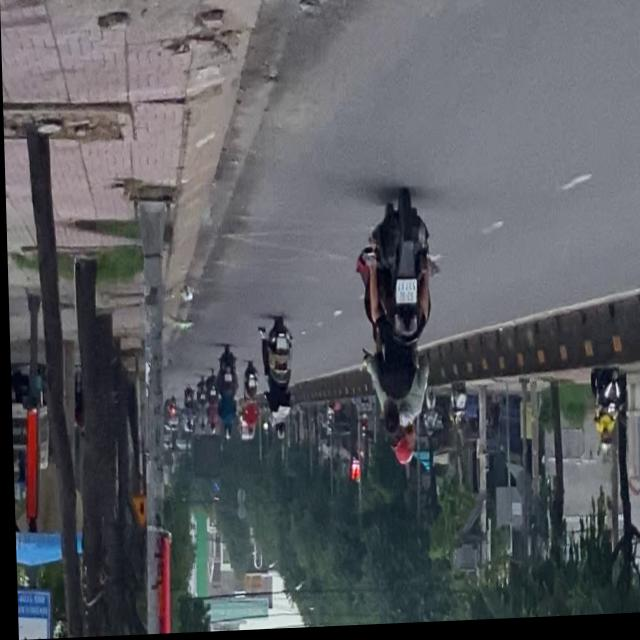helmet: (389, 429, 414, 470)
licenseplate: (353, 195, 442, 472)
motorcyclist: (381, 405, 400, 442)
nohelmet: (394, 283, 415, 308)
